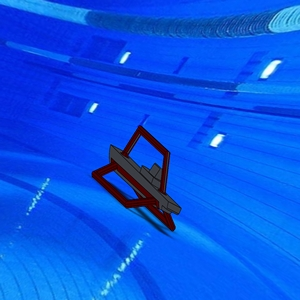submarine: (89, 125, 193, 237)
